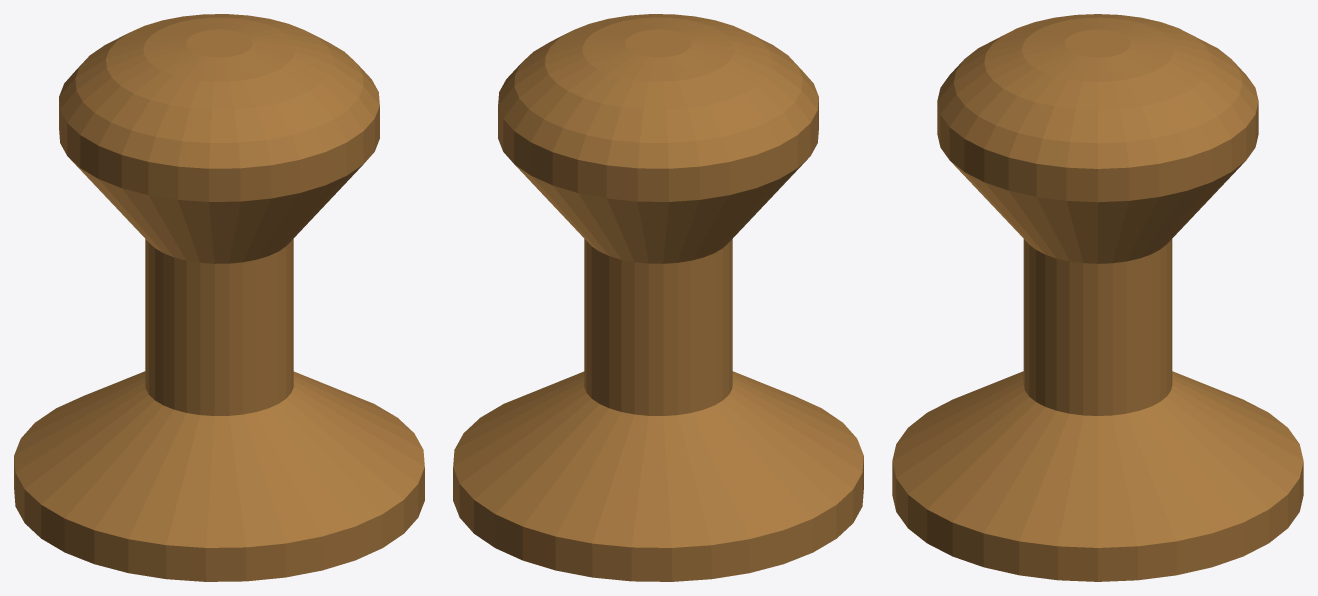
File: timbre.glb
The picture shows the model from 3 angles, left to right: view 1: azimuth 30°, elevation 25°; view 2: azimuth 150°, elevation 25°; view 3: azimuth 270°, elevation 25°; orthographic projection.
Parts seen in each view (by area): view 1: Cylinder; view 2: Cylinder; view 3: Cylinder.
Boxes of the visible parts, bbox=[...] form: Cylinder: bbox=[14, 14, 424, 581]; Cylinder: bbox=[453, 14, 863, 581]; Cylinder: bbox=[892, 14, 1303, 581].
Bounding box in the file's own units: 0.1076 × 0.1333 × 0.1076.
